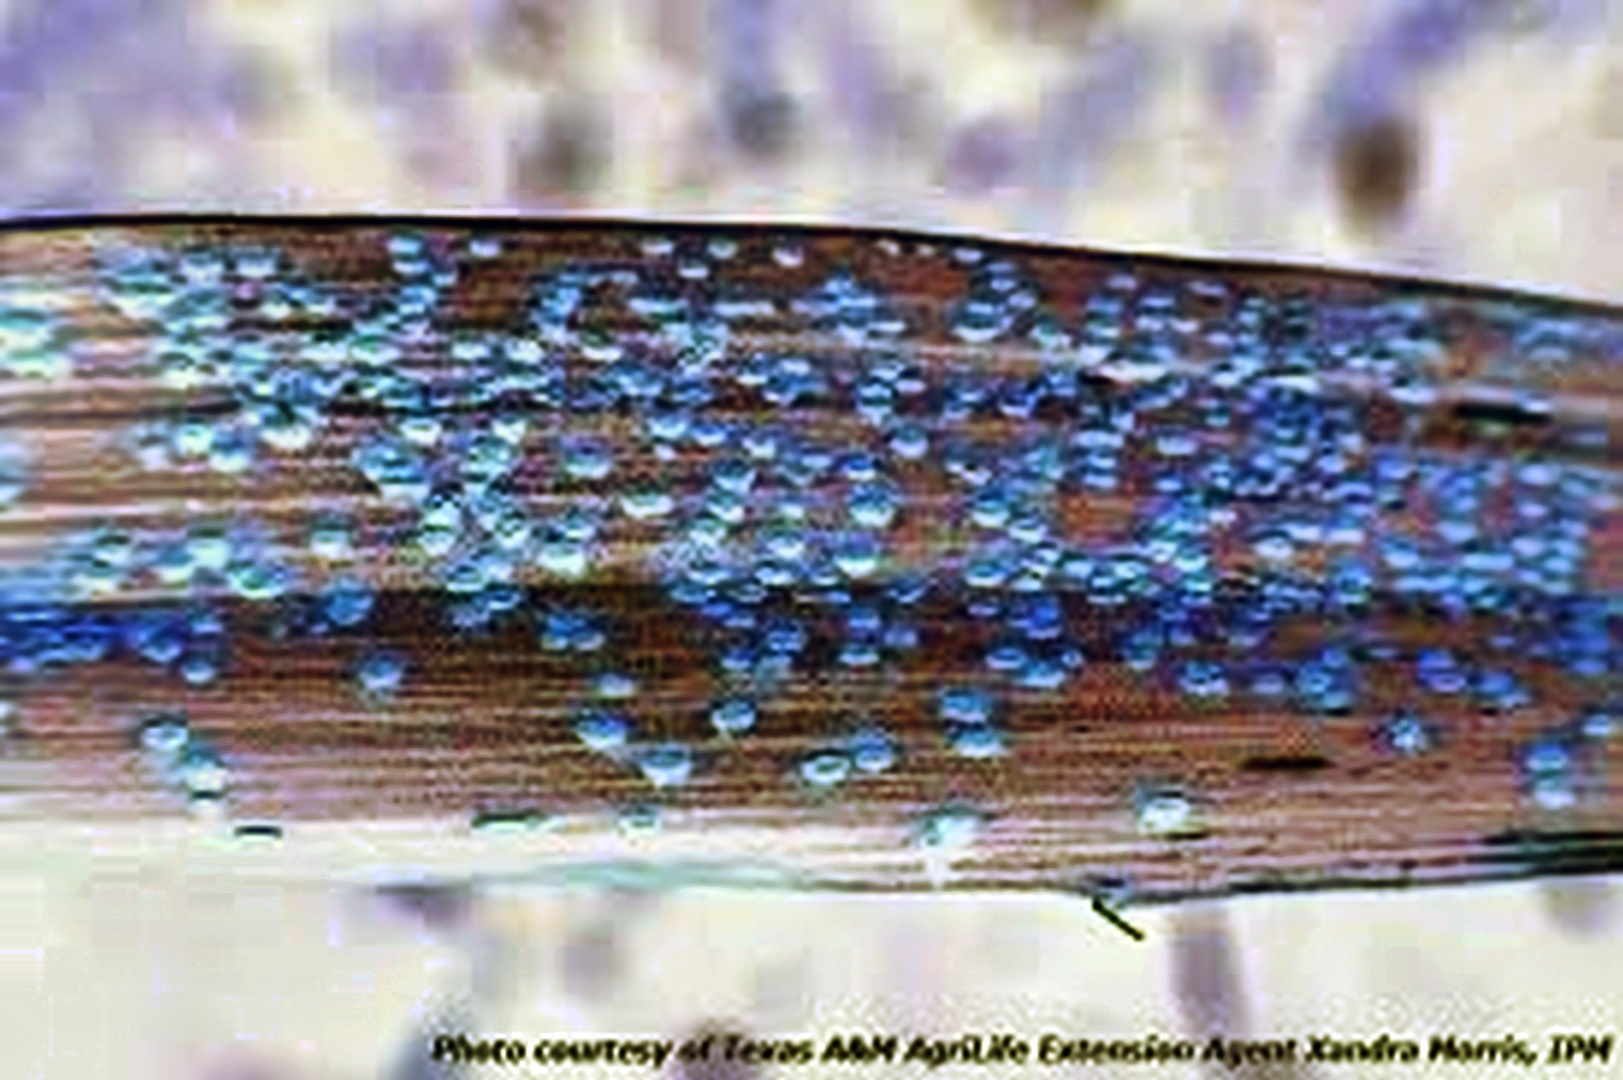Leaf Rust: (42, 251, 1534, 837)
